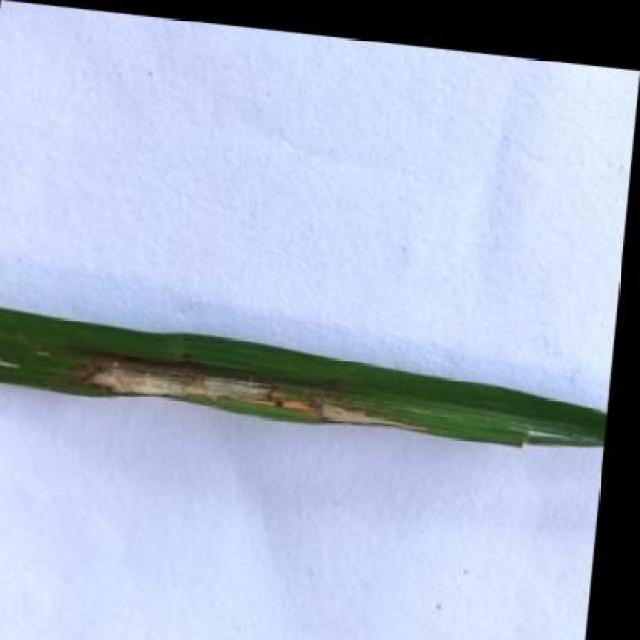Brown_Spot: (0, 298, 617, 453)
